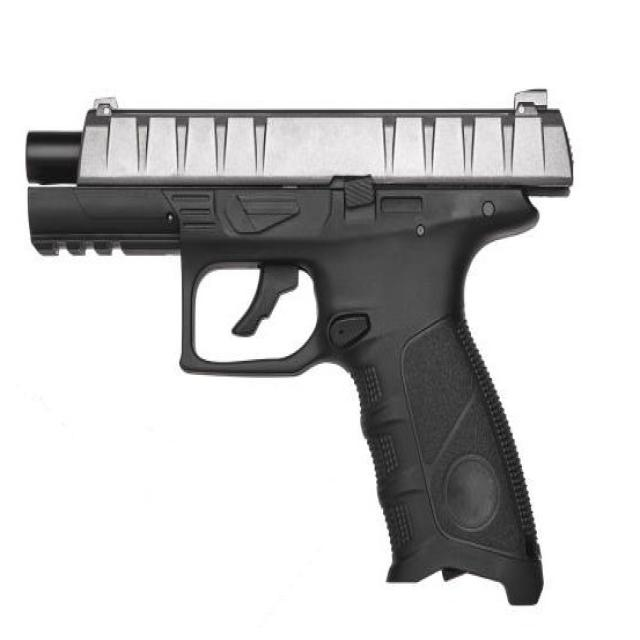pistol: (15, 81, 585, 621)
